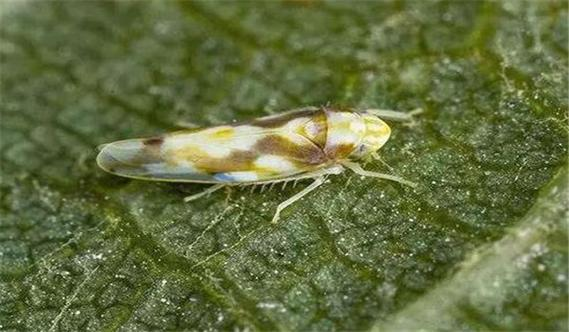Cicadellidae: (95, 104, 390, 192)
